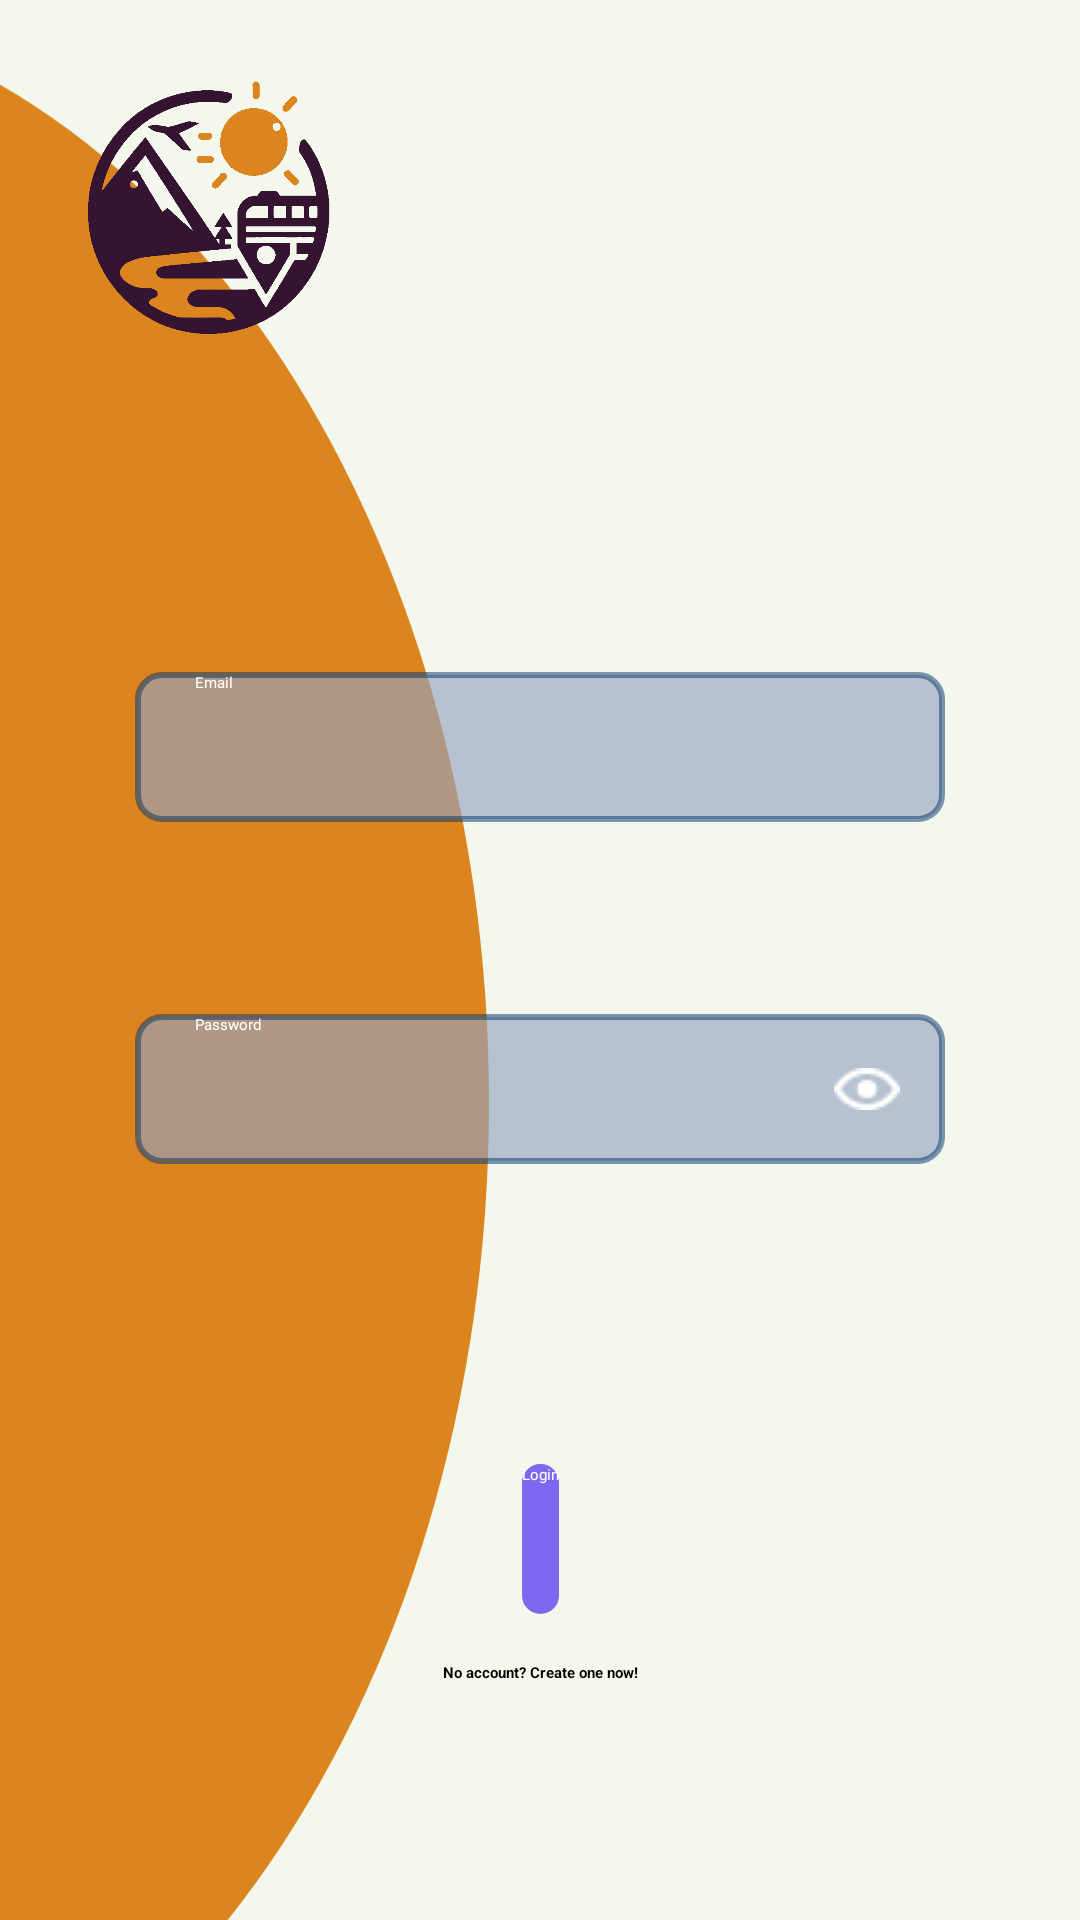

Named icons in this screenshot (1080 × 1920) and their centers, point (x, y):
eye: point (867, 1089)
